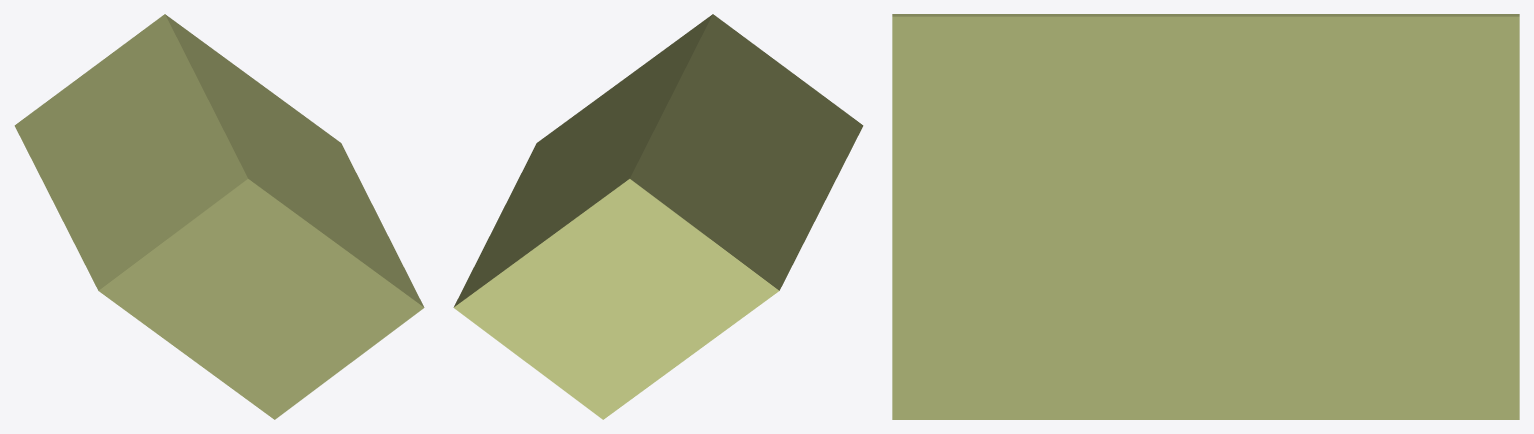
The picture shows the model from 3 angles, left to right: view 1: azimuth 30°, elevation 25°; view 2: azimuth 150°, elevation 25°; view 3: azimuth 270°, elevation 25°; orthographic projection. The views are drawn at different scales.
Parts seen in each view (by area): view 1: 0_1_1_3_2_2_3_3_0_2_3; view 2: 0_1_1_3_2_2_3_3_0_2_3; view 3: 0_1_1_3_2_2_3_3_0_2_3.
Boxes of the visible parts, left/top/right/bottom form: 0_1_1_3_2_2_3_3_0_2_3: left=14, top=14, right=424, bottom=419; 0_1_1_3_2_2_3_3_0_2_3: left=453, top=14, right=863, bottom=419; 0_1_1_3_2_2_3_3_0_2_3: left=892, top=14, right=1519, bottom=419.
Size of the model in its own units: 6.89 by 7.34 by 9.
